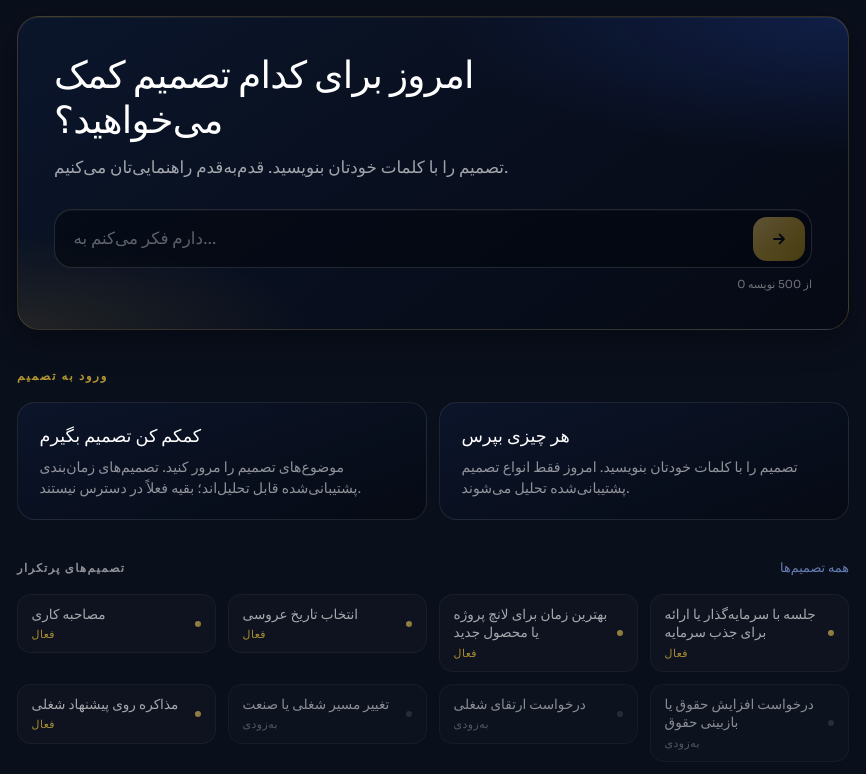
AskScreen › localizes guided topics when Help me Decide is opened in fa
Expected: the heading "امروز برای کدام تصمیم کمک می‌خواهید؟" is shown, [54,52,474,144]
Click the button "کمکم کن تصمیم بگیرم" at (222, 461), box [17,402,427,520]
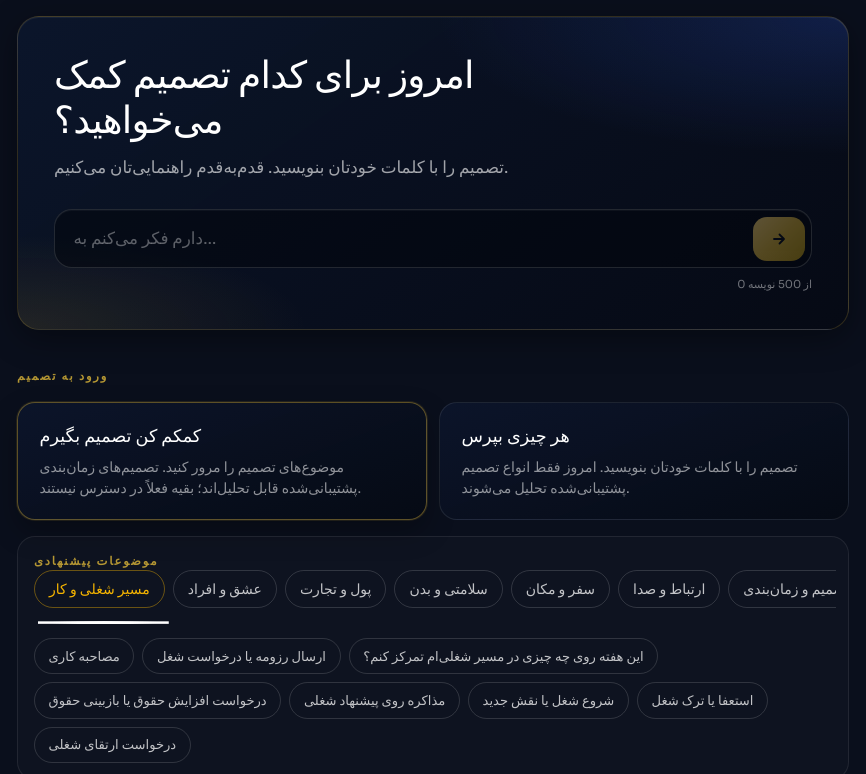
Now the tab "مسیر شغلی و کار" is shown, box [34,570,165,608]
Now the tab "عشق و افراد" is shown, box [173,570,277,608]
